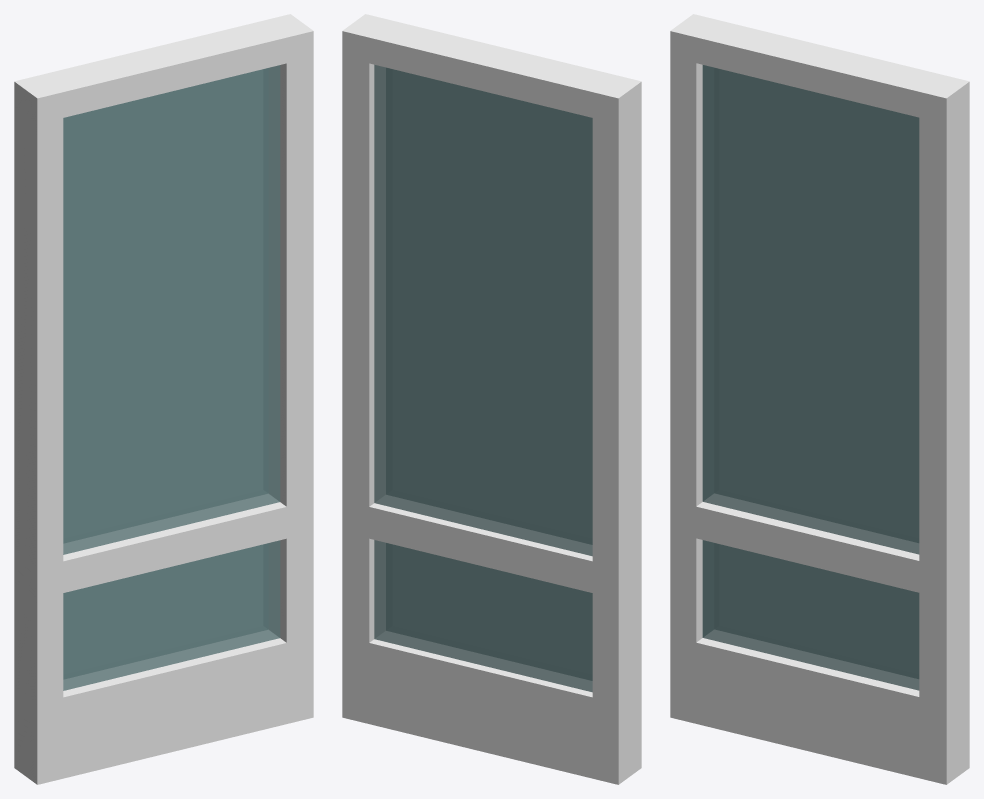
3 renders of one model, left to right at view 1: azimuth 30°, elevation 25°; view 2: azimuth 150°, elevation 25°; view 3: azimuth 330°, elevation 25°, orthographic.
Parts seen in each view (by area): view 1: polySurface39_Metal_0.001, polySurface46_Glass_0.001, polySurface37_Glass_0.001; view 2: polySurface39_Metal_0.001, polySurface46_Glass_0.001, polySurface37_Glass_0.001; view 3: polySurface39_Metal_0.001, polySurface46_Glass_0.001, polySurface37_Glass_0.001.
Boxes of the visible parts, left/top/right/bottom form: polySurface39_Metal_0.001: left=14, top=14, right=313, bottom=784; polySurface46_Glass_0.001: left=63, top=65, right=280, bottom=554; polySurface37_Glass_0.001: left=63, top=540, right=280, bottom=690; polySurface39_Metal_0.001: left=342, top=14, right=641, bottom=784; polySurface46_Glass_0.001: left=374, top=64, right=592, bottom=556; polySurface37_Glass_0.001: left=374, top=540, right=592, bottom=692; polySurface39_Metal_0.001: left=670, top=14, right=969, bottom=784; polySurface46_Glass_0.001: left=702, top=65, right=919, bottom=554; polySurface37_Glass_0.001: left=702, top=540, right=919, bottom=690.
Size of the model in its own units: 0.9141 by 2.17 by 0.1333.
